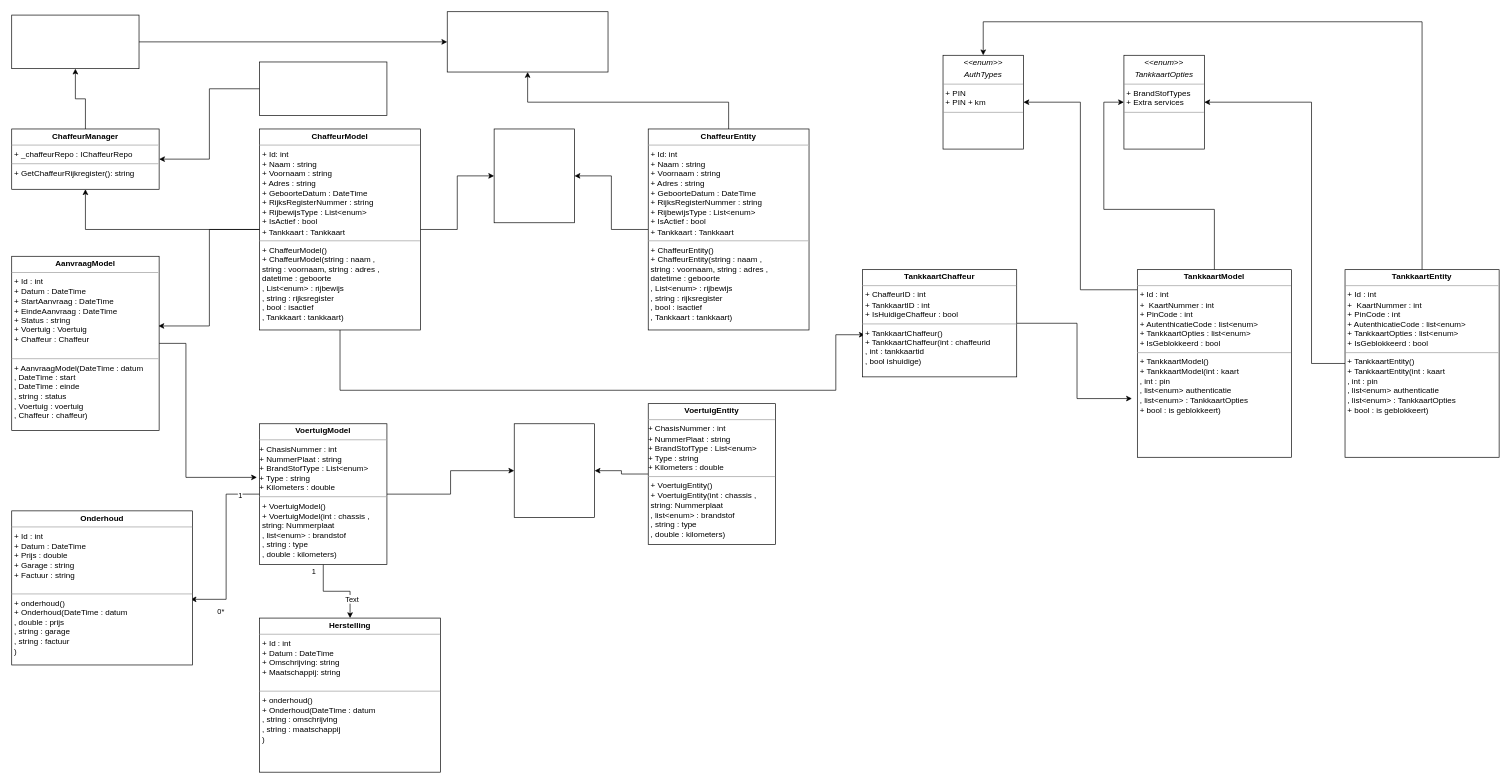
The diagram is 1511 pixels wide and 784 high, and some of its shapes have lost their labels. The shapes that lost their labels are listed below. From the top down, each one's centre as x and y in pixels, then its label:
At point (75, 41): "<<Interface>> IChaffeurRepo".
At point (527, 41): "ChaffeurRepo + context : DBContext +ChaffeurRepo(context : dbcontext)".
At point (323, 88): "<<Interface>> IChaffeurManager".
At point (534, 175): "<<enum>> RijbewijsType".
At point (554, 470): "<<enum>> BrandStofType".
